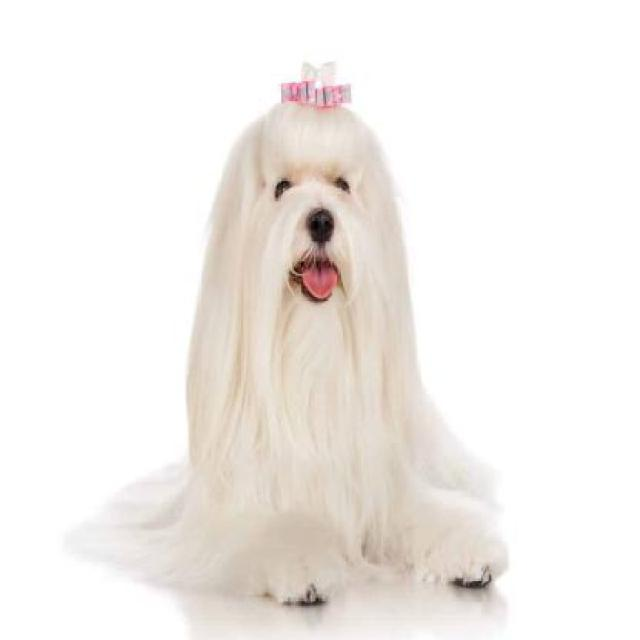Dog: (55, 57, 511, 617)
